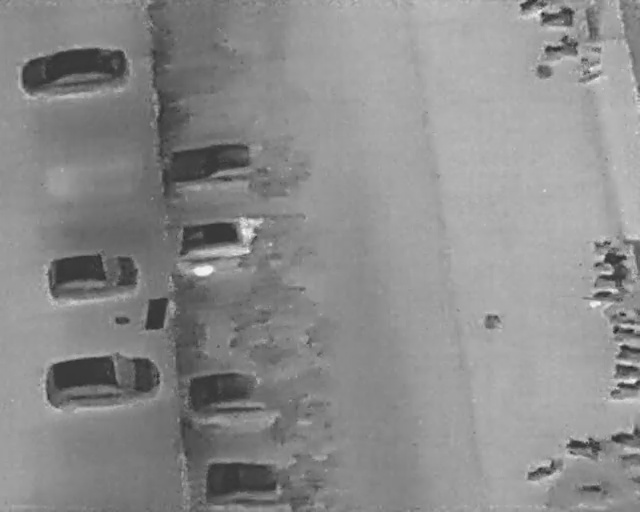Bicycle: (580, 278, 633, 310), (520, 455, 565, 489), (537, 31, 583, 63), (592, 259, 635, 287), (565, 435, 603, 461), (590, 245, 630, 269), (537, 6, 577, 27), (609, 378, 639, 401), (575, 479, 608, 498), (609, 425, 639, 445), (612, 362, 639, 380), (605, 314, 639, 328), (519, 0, 548, 16), (610, 323, 639, 338), (615, 343, 639, 361), (618, 451, 639, 465), (593, 238, 613, 251)
Car: (40, 345, 166, 416), (15, 41, 132, 105), (185, 366, 305, 425), (42, 247, 144, 308), (172, 210, 282, 265), (163, 135, 271, 188), (202, 456, 308, 508)
